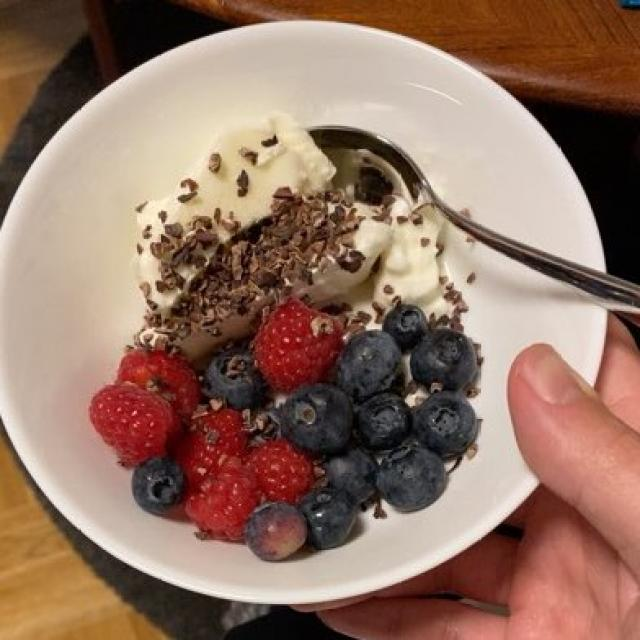berries: (82, 293, 490, 556)
